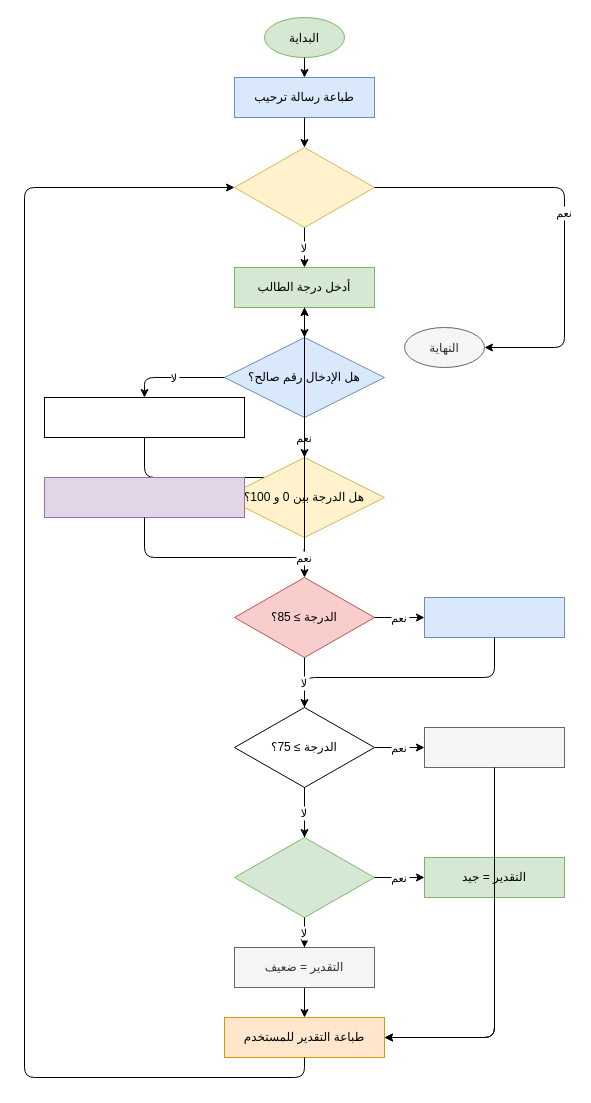
Image size: 591x1103. Some labels were removed from this diagram. Each missing label, with the centre of its shape:
"اطبع خطأ: يجب إدخال رقم" goes at pixel 144 417.
"اطبع: الدرجة غير صالحة" goes at pixel 144 497.
"التقدير = جيد جداً" goes at pixel 494 747.
"التقدير = ممتاز" goes at pixel 494 617.
"الدرجة ≥ 65؟" goes at pixel 304 877.
"هل المستخدم يريد الخروج؟" goes at pixel 304 187.
